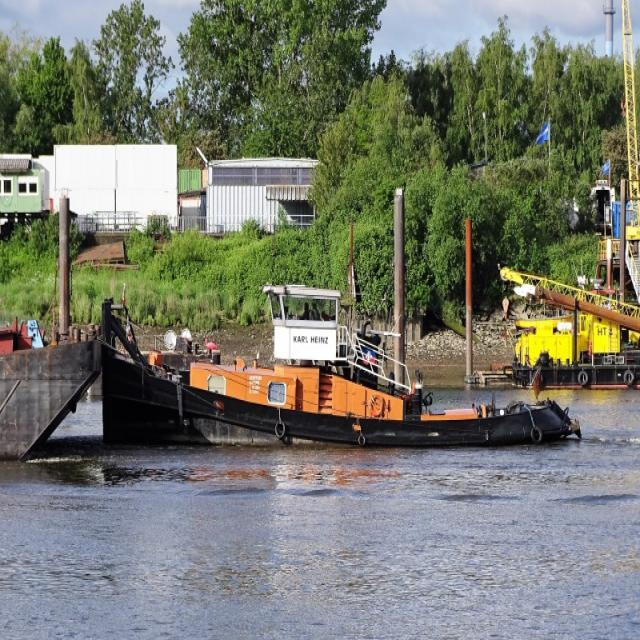tugboat: (100, 272, 588, 470)
